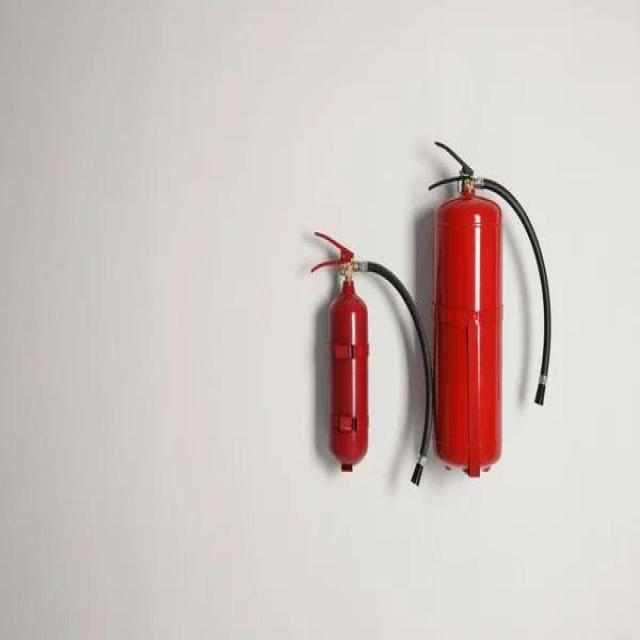fire_extinguisher: (423, 138, 555, 478), (308, 226, 436, 489)
